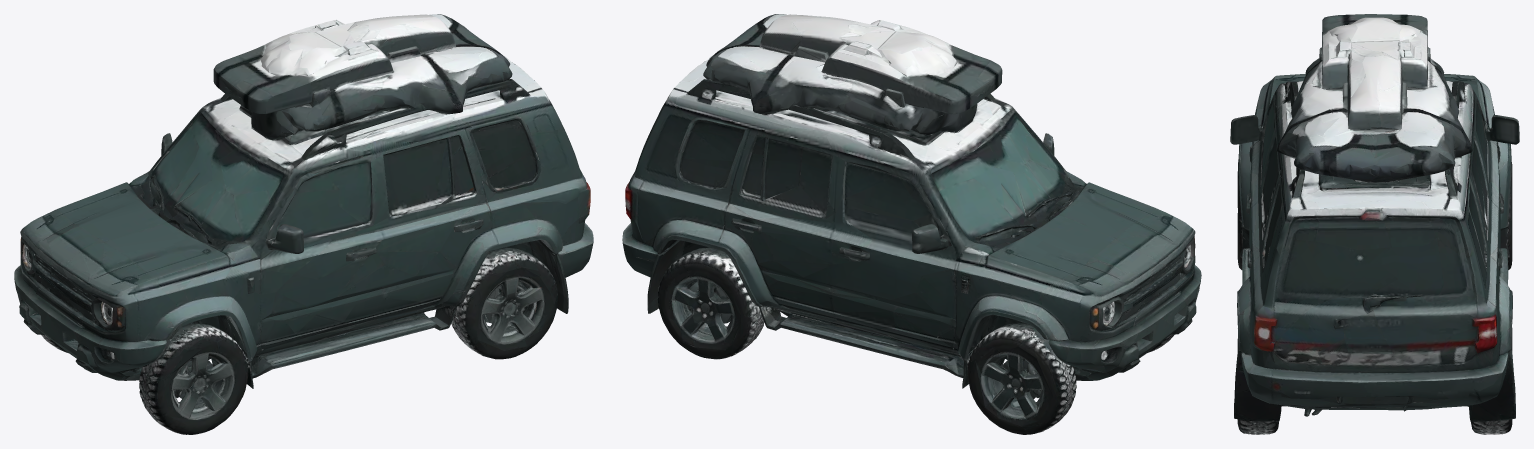
Rendered from parked_suv.glb.
3 renders of one model, left to right at view 1: azimuth 30°, elevation 25°; view 2: azimuth 150°, elevation 25°; view 3: azimuth 270°, elevation 25°, orthographic. The views are drawn at different scales.
Size of the model in its own units: 1.9 by 1.12 by 0.8896.
1 material, 1 textured.
